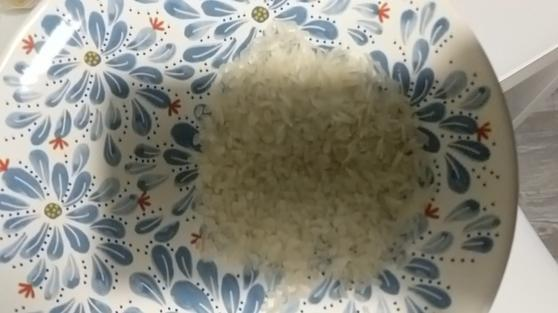rice: (187, 16, 438, 286)
